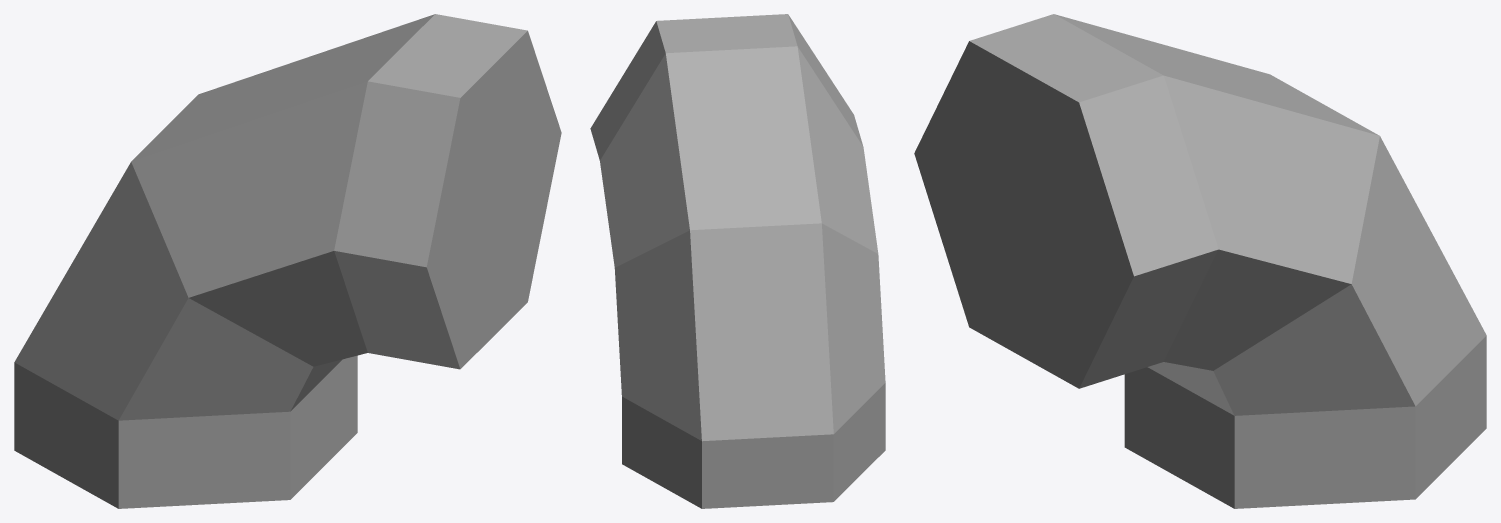
The model's file is Building Pipe 6.fbx.
3 views of the same model, side by side, from view 1: azimuth 30°, elevation 25°; view 2: azimuth 150°, elevation 25°; view 3: azimuth 270°, elevation 25° (orthographic). The views are drawn at different scales.
Visible parts, largest first — view 1: Building Pipe 6; view 2: Building Pipe 6; view 3: Building Pipe 6.
Boxes of the visible parts, x1,y1,x2,y2 form: Building Pipe 6: (14,14,561,508); Building Pipe 6: (590,14,885,508); Building Pipe 6: (914,14,1486,508).
Bounding box in the file's own units: 40.64 × 44.22 × 38.87.
